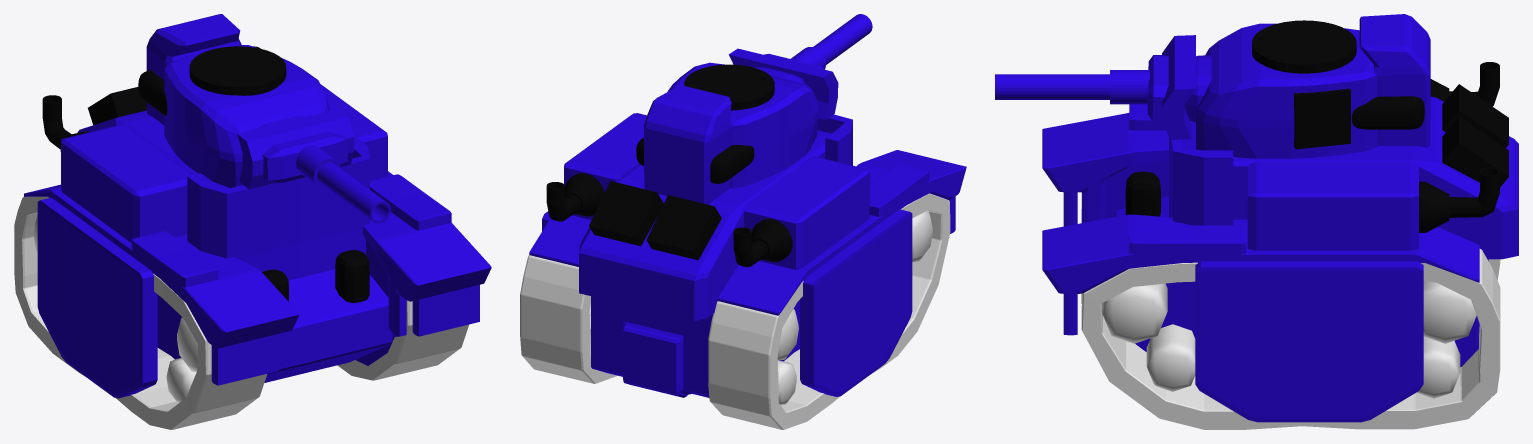
File: Tank.fbx
3 views of the same model, side by side, from view 1: azimuth 30°, elevation 25°; view 2: azimuth 150°, elevation 25°; view 3: azimuth 270°, elevation 25° (orthographic). The views are drawn at different scales.
Visible parts, largest first — view 1: TopTreadGuard, TreadGuard, FrontArmor, Treads, SideStorage, CannonBody, Body, TopHatch, CannonSecond, CannonBack, Cannon, CannonThird (+7 smaller); view 2: Treads, TreadGuard, TopBody, SideStorage, TopTreadGuard, Body, CannonBack, BackStorage, CannonBody, BackPipes, TopHatch, CannonSecond (+4 smaller); view 3: TreadGuard, TopTreadGuard, Treads, SideStorage, CannonBody, Rotors, TopBody, CannonBack, FrontArmor, BackStorage, TopHatch, Cannon (+9 smaller).
Part boxes in pixels (box(x1,y1,x2,y2)): TopTreadGuard: box(24, 174, 491, 385); TreadGuard: box(37, 171, 393, 398); FrontArmor: box(187, 136, 369, 280); Treads: box(14, 196, 469, 429); SideStorage: box(61, 84, 387, 242); CannonBody: box(164, 45, 330, 188); Body: box(157, 269, 392, 382); TopHatch: box(189, 46, 286, 95); CannonSecond: box(237, 109, 354, 189); CannonBack: box(146, 14, 241, 124); Cannon: box(296, 145, 390, 223); CannonThird: box(262, 132, 347, 182); Treads: box(520, 193, 950, 429); TreadGuard: box(542, 209, 912, 396); TopBody: box(579, 130, 830, 321); SideStorage: box(564, 113, 869, 269); TopTreadGuard: box(529, 150, 966, 315); Body: box(591, 296, 799, 397); CannonBack: box(644, 85, 732, 204); BackStorage: box(589, 181, 721, 260); CannonBody: box(667, 62, 819, 188); BackPipes: box(546, 173, 792, 267); TopHatch: box(684, 64, 774, 110); CannonSecond: box(728, 48, 838, 119); TreadGuard: box(1195, 261, 1423, 422); TopTreadGuard: box(1042, 104, 1479, 335); Treads: box(1081, 192, 1500, 429); SideStorage: box(1247, 161, 1418, 250); CannonBody: box(1196, 23, 1377, 158); Rotors: box(1102, 280, 1476, 398); TopBody: box(1184, 96, 1518, 259); CannonBack: box(1359, 14, 1430, 147); FrontArmor: box(1169, 138, 1233, 225); BackStorage: box(1442, 84, 1508, 187); TopHatch: box(1252, 20, 1356, 73); Cannon: box(995, 70, 1149, 104).
Bounding box in the file's own units: 426 × 424 × 612.
